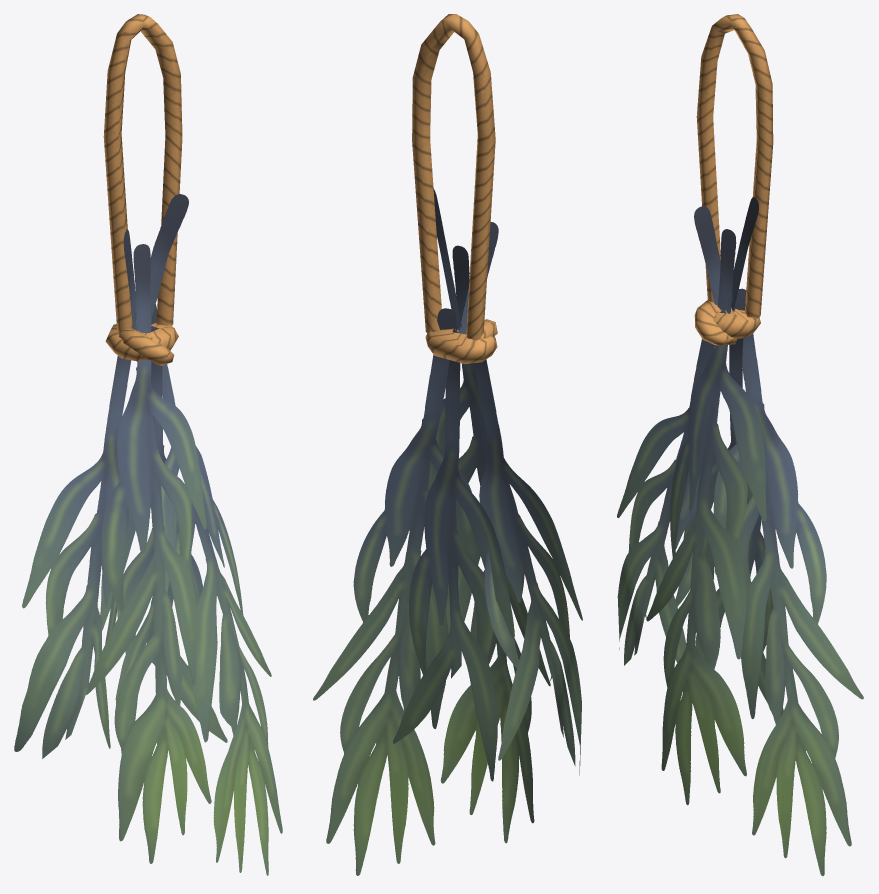
File: SM_Potion_Props_Herb_Broom_Wall_02.fbx
3 renders of one model, left to right at view 1: azimuth 30°, elevation 25°; view 2: azimuth 150°, elevation 25°; view 3: azimuth 330°, elevation 25°, orthographic. The views are drawn at different scales.
Visible parts, largest first — view 1: SM_Potion_Props_Herb_Broom_Wall_02_LOD0; view 2: SM_Potion_Props_Herb_Broom_Wall_02_LOD0; view 3: SM_Potion_Props_Herb_Broom_Wall_02_LOD0.
Part boxes in pixels (x1,y1,x2,y2): SM_Potion_Props_Herb_Broom_Wall_02_LOD0: (14, 14, 282, 875); SM_Potion_Props_Herb_Broom_Wall_02_LOD0: (313, 14, 582, 875); SM_Potion_Props_Herb_Broom_Wall_02_LOD0: (617, 14, 863, 875).
Size of what is drawn, in the model's own units: 21.19 by 68.49 by 6.77.
